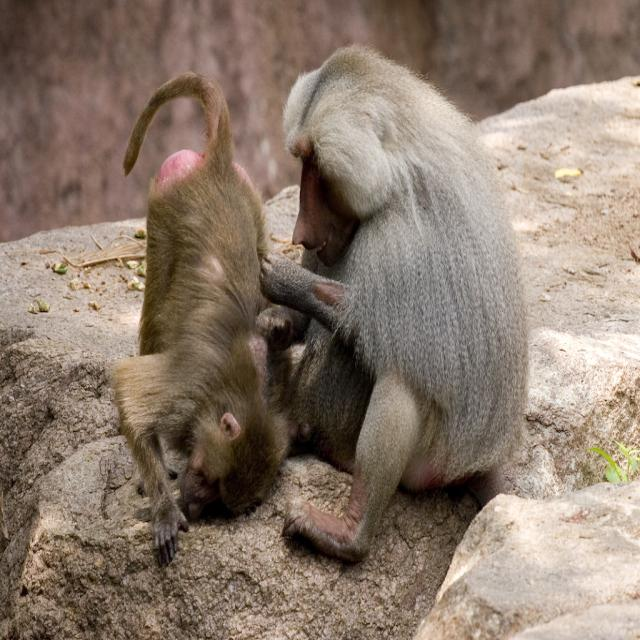Monkey: (272, 48, 531, 597), (112, 70, 299, 558)
